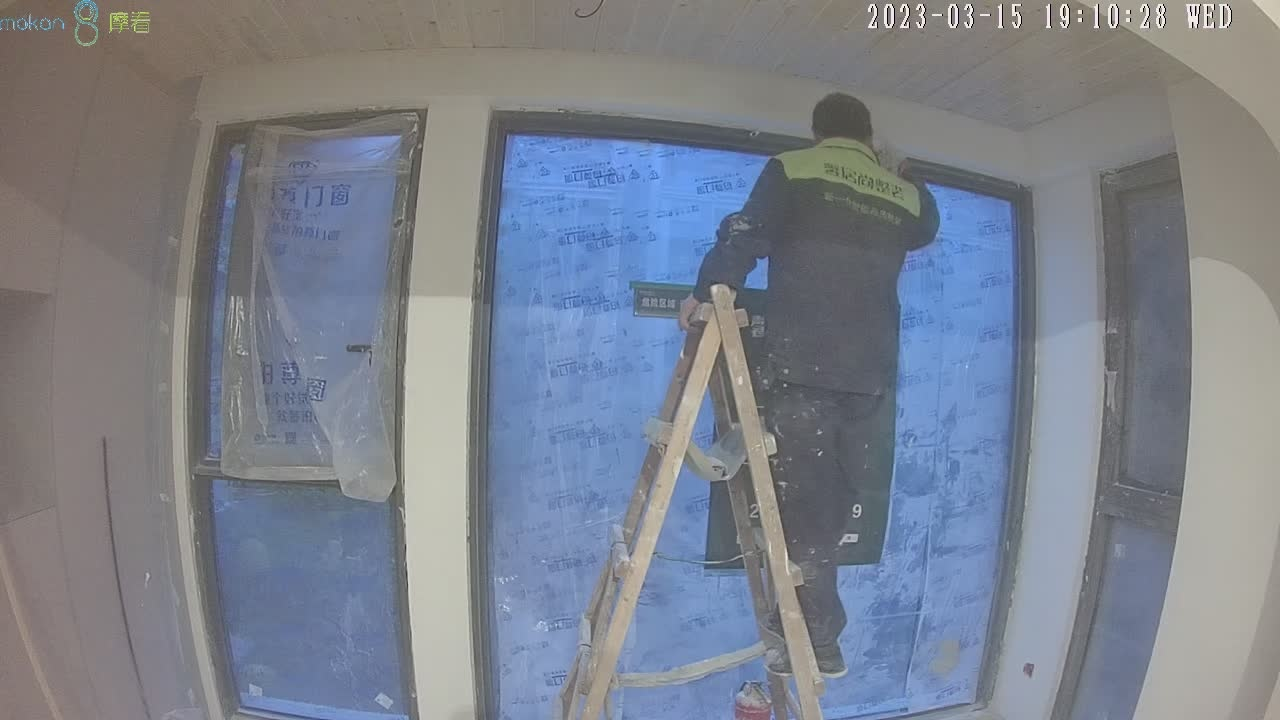people: (676, 90, 942, 678)
window: (196, 118, 1028, 720)
